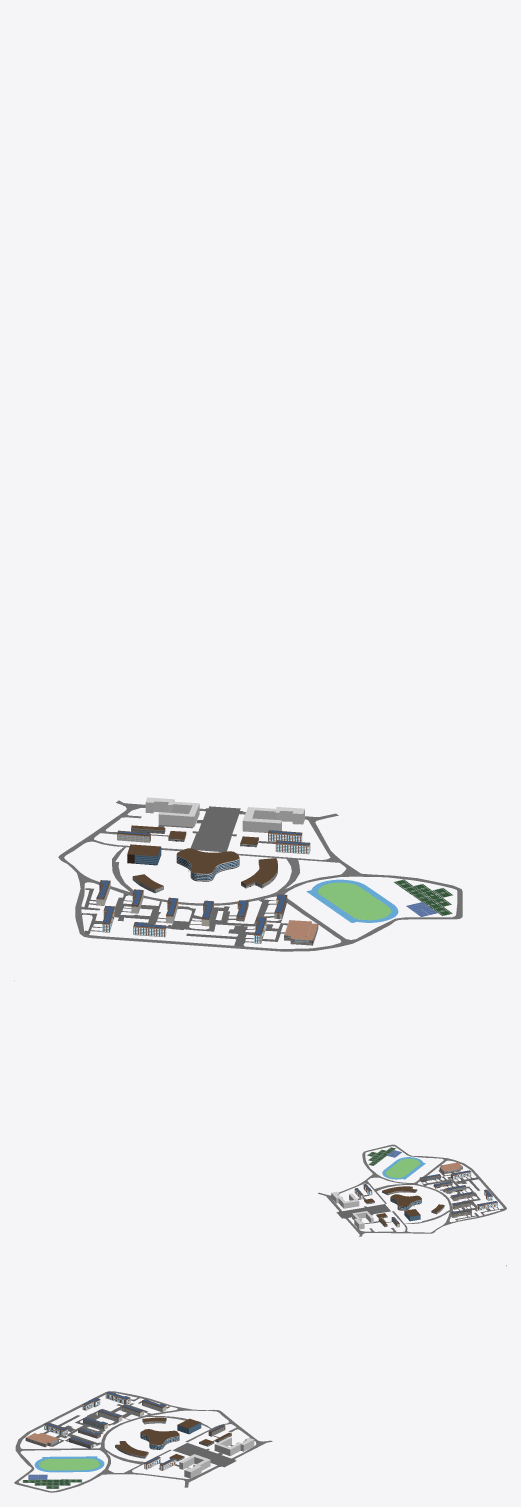
File: hnjcxy.glb
3 renders of one model, top to bottom at view 1: azimuth 30°, elevation 25°; view 2: azimuth 150°, elevation 25°; view 3: azimuth 270°, elevation 25°, orthographic. The views are drawn at different scales.
Parts seen in each view (by area): view 1: 47, 27, 11, 52, 46; view 2: 47, 27, 11, 46; view 3: 47, 27, 11, 46, 52, 44, 45, 24, 22, 49, 12, 29.
Boxes of the visible parts, <box> form: 47: <box>75,866,380,951</box>; 27: <box>318,882,391,920</box>; 11: <box>176,848,239,881</box>; 52: <box>192,806,242,851</box>; 46: <box>58,847,272,907</box>; 47: <box>369,1156,506,1217</box>; 27: <box>385,1158,420,1177</box>; 11: <box>390,1194,421,1210</box>; 46: <box>405,1184,478,1233</box>; 47: <box>15,1391,148,1475</box>; 27: <box>38,1458,100,1470</box>; 11: <box>140,1429,179,1449</box>; 46: <box>100,1398,224,1446</box>; 52: <box>177,1445,236,1467</box>; 44: <box>185,1415,272,1458</box>; 45: <box>115,1449,219,1487</box>; 24: <box>179,1454,210,1470</box>; 22: <box>214,1437,240,1456</box>; 49: <box>14,1461,100,1492</box>; 12: <box>177,1418,201,1434</box>; 29: <box>34,1458,104,1472</box>.
Bounding box in the file's own units: 1332 × 1003 × 1358.
106 materials, 99 textured.
